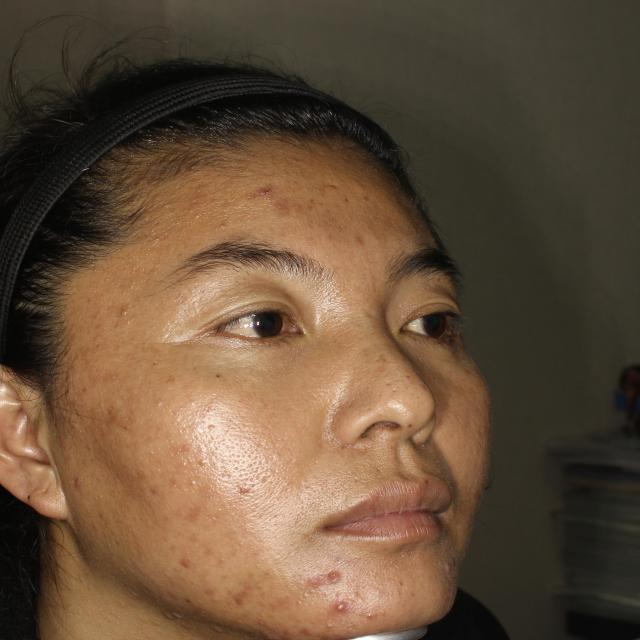acne: (67, 469, 111, 499), (243, 170, 278, 200), (301, 563, 344, 586), (223, 580, 256, 606), (178, 547, 199, 574), (331, 595, 355, 617), (276, 200, 295, 217)
